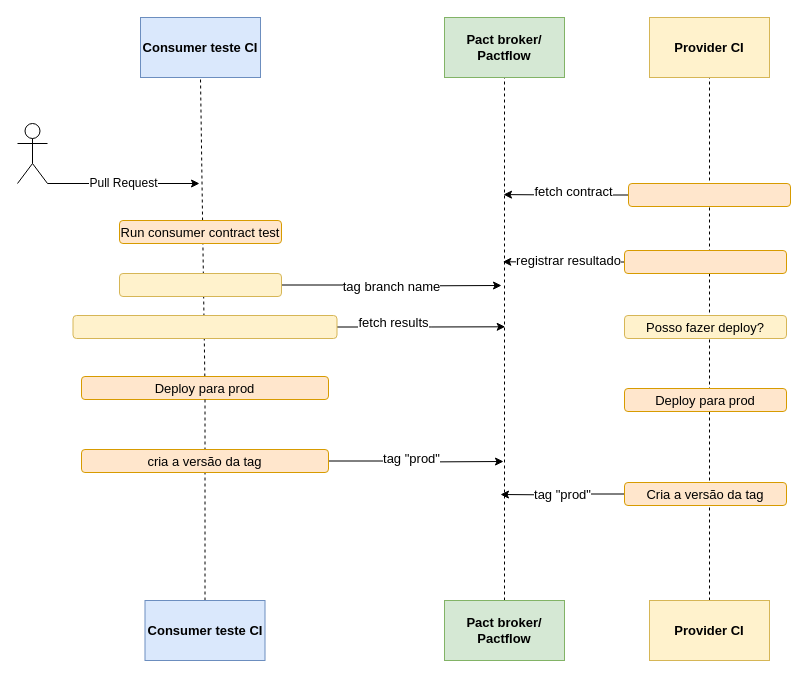
Some shapes in this 808 by 678 pixel diagram are drawn without their labels. Here are the shapes that lost their labels. From the top down, the centre of each, then its label:
point 32,153: dev
point 709,194: Run provider contract test
point 705,262: Publish result
point 200,284: Publish pact
point 204,326: Posso fazer deploy do consumer para prod?
